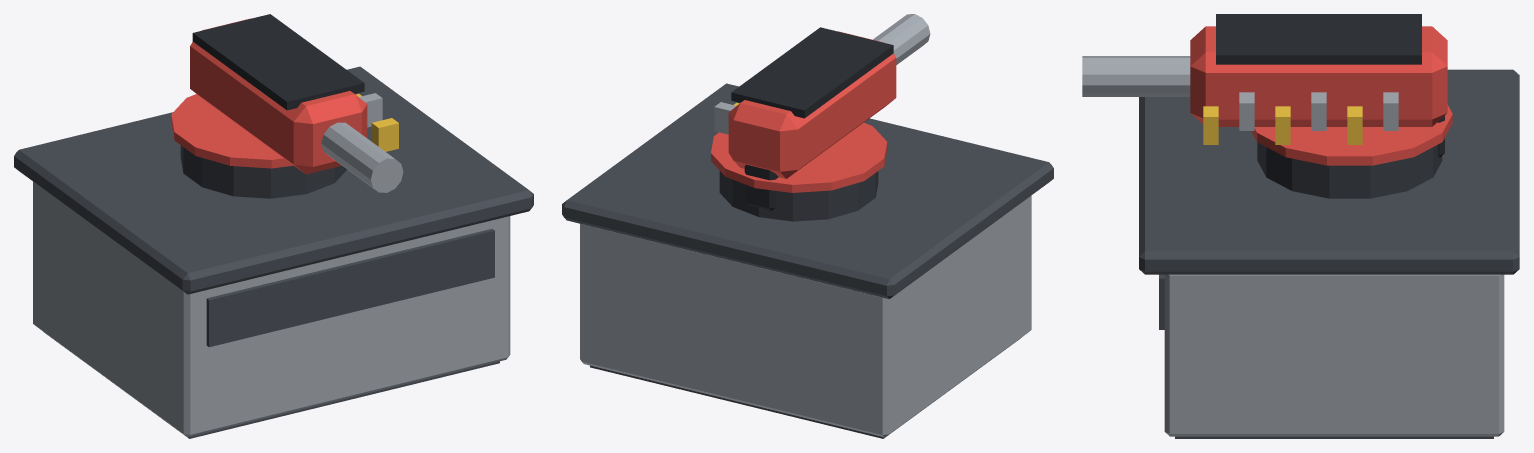
The model's file is artillery_p0_4.glb.
The picture shows the model from 3 angles, left to right: view 1: azimuth 30°, elevation 25°; view 2: azimuth 150°, elevation 25°; view 3: azimuth 270°, elevation 25°; orthographic projection. The views are drawn at different scales.
Parts seen in each view (by area): view 1: artillery_p0_4_mesh_Desk, artillery_p0_4_mesh; view 2: artillery_p0_4_mesh_Desk, artillery_p0_4_mesh; view 3: artillery_p0_4_mesh_Desk, artillery_p0_4_mesh.
Boxes of the visible parts, box(x1,y1,x2,y2) form: artillery_p0_4_mesh_Desk: box(14, 66, 533, 438); artillery_p0_4_mesh: box(171, 14, 403, 198); artillery_p0_4_mesh_Desk: box(562, 83, 1053, 438); artillery_p0_4_mesh: box(711, 14, 930, 221); artillery_p0_4_mesh_Desk: box(1139, 69, 1519, 438); artillery_p0_4_mesh: box(1082, 14, 1452, 198).
Size of the model in its own units: 0.86 by 0.69 by 0.85.
